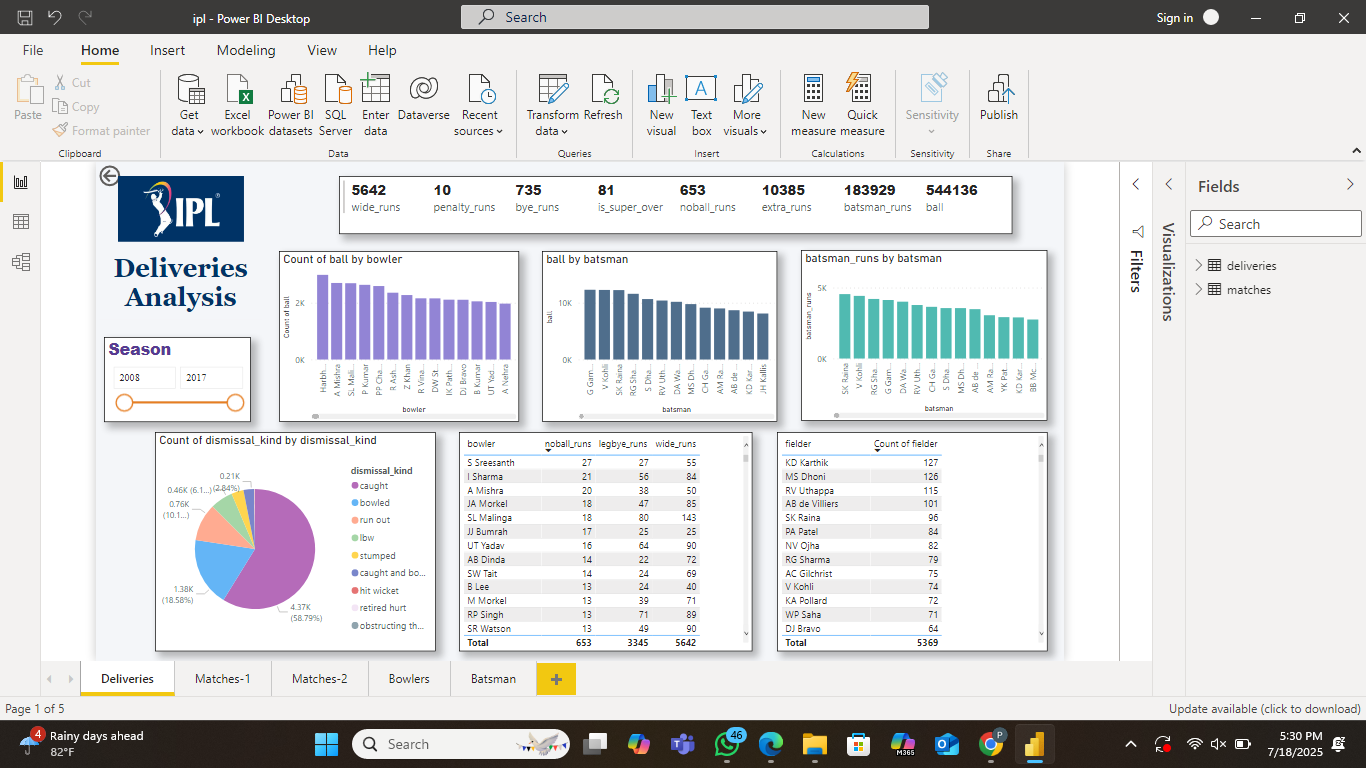

Layout of this report page (visuals, bound fields, positions):
{"tool":"powerbi","page":{"name":"Deliveries","canvas":[1398,721],"ordinal":0},"visuals":[{"type":"clusteredColumnChart","fields":{"Y":["deliveries.ball"],"Category":["deliveries.bowler"]},"box":[264.6,129.3,347.2,246.5],"z":0},{"type":"clusteredColumnChart","fields":{"Y":["deliveries.ball"],"Category":["deliveries.batsman"]},"box":[644.9,129.3,339.7,246.5],"z":1000},{"type":"pieChart","fields":{"Category":["deliveries.dismissal_kind"],"Y":["deliveries.dismissal_kind"]},"box":[85.7,390.8,405.9,317.2],"z":2000},{"type":"actionButton","box":[0,0,100,40],"z":3000},{"type":"tableEx","fields":{"Values":["deliveries.bowler","deliveries.noball_runs","deliveries.legbye_runs","deliveries.wide_runs"]},"box":[524.6,390.8,423.9,317.2],"z":4000},{"type":"clusteredColumnChart","fields":{"Y":["deliveries.batsman_runs"],"Category":["deliveries.batsman"]},"box":[1019.2,127.8,356.3,246.5],"z":5000},{"type":"tableEx","fields":{"Values":["deliveries.fielder","deliveries.fielder"]},"box":[984.6,390.8,390.8,317.2],"z":6000},{"type":"image","box":[31.6,19.5,181.9,94.7],"z":7000},{"type":"multiRowCard","fields":{"Values":["deliveries.wide_runs","deliveries.penalty_runs","deliveries.bye_runs","deliveries.is_super_over","deliveries.noball_runs","deliveries.extra_runs","deliveries.batsman_runs","deliveries.ball"]},"box":[351.8,19.5,972.6,84.2],"z":8000},{"type":"slicer","title":"Season","fields":{"Values":["matches.season"]},"box":[11.5,252.5,212.1,122.7],"z":9000},{"type":"textbox","box":[4.5,127.8,236,100.7],"z":10000}]}

Visuals, with their boxes on the page's 1398x721 design canvas (x1, y1, x2, y2). These are canvas units, not pixel positions in the 1366x768 screenshot, which may show the page scaled, cropped or inside an application window:
clusteredColumnChart - deliveries.ball x deliveries.bowler: [265,129,612,376]
clusteredColumnChart - deliveries.ball x deliveries.batsman: [645,129,985,376]
pieChart - deliveries.dismissal_kind x deliveries.dismissal_kind: [86,391,492,708]
actionButton: [0,0,100,40]
tableEx - deliveries.bowler x deliveries.noball_runs: [525,391,948,708]
clusteredColumnChart - deliveries.batsman_runs x deliveries.batsman: [1019,128,1376,374]
tableEx - deliveries.fielder x deliveries.fielder: [985,391,1375,708]
image: [32,20,214,114]
multiRowCard - deliveries.wide_runs x deliveries.penalty_runs: [352,20,1324,104]
"Season" slicer: [12,252,224,375]
textbox: [4,128,240,228]
